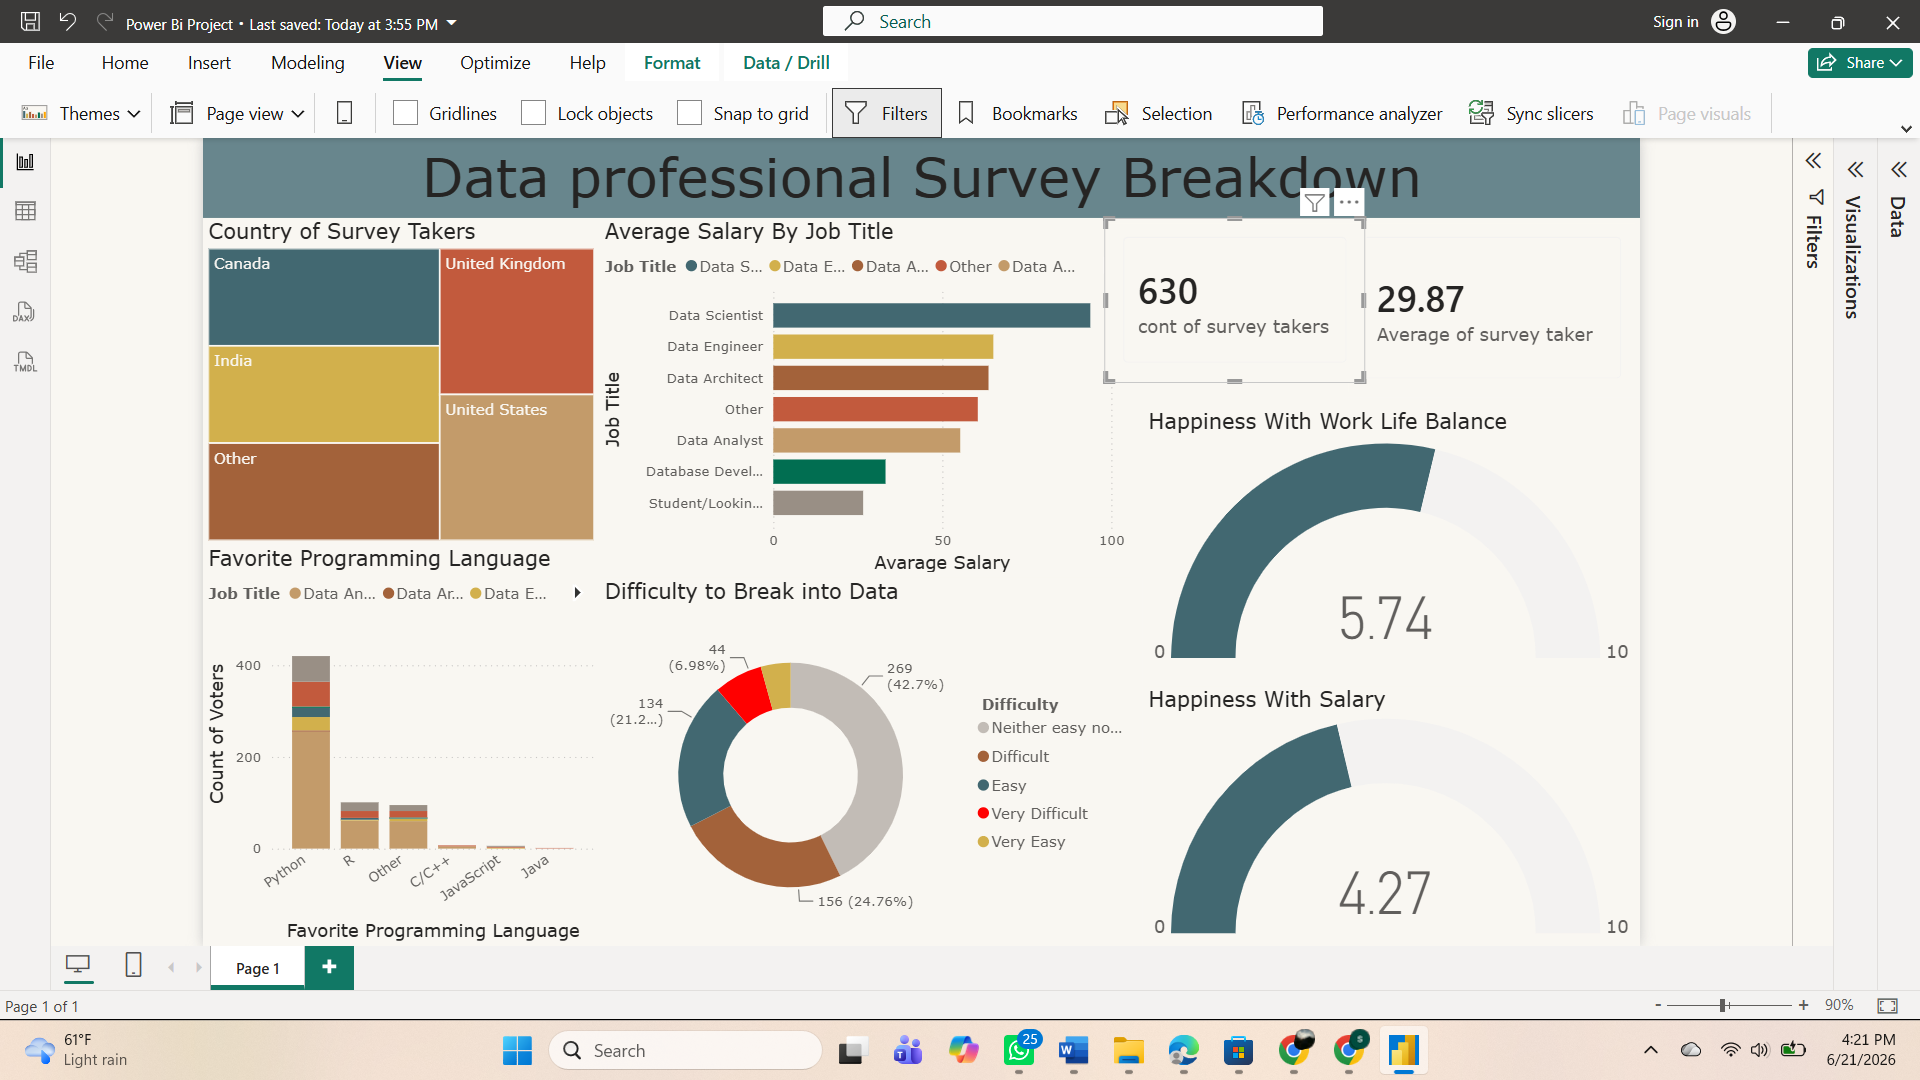

This screenshot's page, from the dashboard's own definition file:
{"tool":"powerbi","page":{"name":"Page 1","canvas":[1280,720],"ordinal":0},"visuals":[{"type":"textbox","box":[0,0,1280.3,71.4],"z":0},{"type":"cardVisual","fields":{"Data":["CountNonNull(Data Professional Survey.Unique ID)"]},"box":[802.2,70.9,233.6,146.7],"z":1000},{"type":"cardVisual","fields":{"Data":["Avg(Data Professional Survey.Q10 - Current Age)"]},"box":[1015,70.9,265.4,160.2],"z":2000},{"type":"barChart","title":"Average Salary By Job Title","fields":{"Category":["Data Professional Survey.Q1 - Which Title Best Fits your Current Role?.1"],"Y":["Avg(Data Professional Survey.Avarage Salary)"],"Series":["Data Professional Survey.Q1 - Which Title Best Fits your Current Role?.1"]},"box":[353.4,70.9,473.2,320.4],"z":2001},{"type":"columnChart","title":"Favorite Programming Language","fields":{"Category":["Data Professional Survey.Q5 - Favorite Programming Language.1"],"Y":["CountNonNull(Data Professional Survey.Unique ID)"],"Series":["Data Professional Survey.Q1 - Which Title Best Fits your Current Role?.1"]},"box":[0,363.2,353.4,357.1],"z":2002},{"type":"treemap","title":"Country of Survey Takers","fields":{"Group":["Data Professional Survey.Q11 - Which Country do you live in?.1"],"Values":["Count(Data Professional Survey.Q11 - Which Country do you live in?.1)"]},"box":[0,70.9,353.4,292.3],"z":2003},{"type":"gauge","title":"Happiness With Work Life Balance","fields":{"Y":["Avg(Data Professional Survey.Q6 - How Happy are you in your Current Position with the following? (Work/Life Balance))"],"MinValue":["Min(Data Professional Survey.Q6 - How Happy are you in your Current Position with the following? (Work/Life Balance))1"],"MaxValue":["Max(Data Professional Survey.Q6 - How Happy are you in your Current Position with the following? (Work/Life Balance))2"]},"box":[837.6,240.9,442.7,237.2],"z":2004},{"type":"gauge","title":"Happiness With Salary","fields":{"Y":["Avg(Data Professional Survey.Q6 - How Happy are you in your Current Position with the following? (Salary))"],"MinValue":["Min(Data Professional Survey.Q6 - How Happy are you in your Current Position with the following? (Salary))"],"MaxValue":["Max(Data Professional Survey.Q6 - How Happy are you in your Current Position with the following? (Salary))"]},"box":[837.6,489.1,442.7,231.1],"z":2005},{"type":"donutChart","title":"Difficulty to Break into Data","fields":{"Category":["Data Professional Survey.Q7 - How difficult was it for you to break into Data?"],"Y":["CountNonNull(Data Professional Survey.Q7 - How difficult was it for you to break into Data?)"]},"box":[353.4,391.3,484.2,328.9],"z":2006}]}

Visuals, with their boxes on the page's 1280x720 design canvas (x1, y1, x2, y2). These are canvas units, not pixel positions in the 1920x1080 screenshot, which may show the page scaled, cropped or inside an application window:
textbox: bbox=(0, 0, 1280, 71)
cardVisual - CountNonNull(Data Professional Survey.Unique ID): bbox=(802, 71, 1036, 218)
cardVisual - Avg(Data Professional Survey.Q10 - Current Age): bbox=(1015, 71, 1280, 231)
"Average Salary By Job Title" barChart: bbox=(353, 71, 827, 391)
"Favorite Programming Language" columnChart: bbox=(0, 363, 353, 720)
"Country of Survey Takers" treemap: bbox=(0, 71, 353, 363)
"Happiness With Work Life Balance" gauge: bbox=(838, 241, 1280, 478)
"Happiness With Salary" gauge: bbox=(838, 489, 1280, 720)
"Difficulty to Break into Data" donutChart: bbox=(353, 391, 838, 720)
